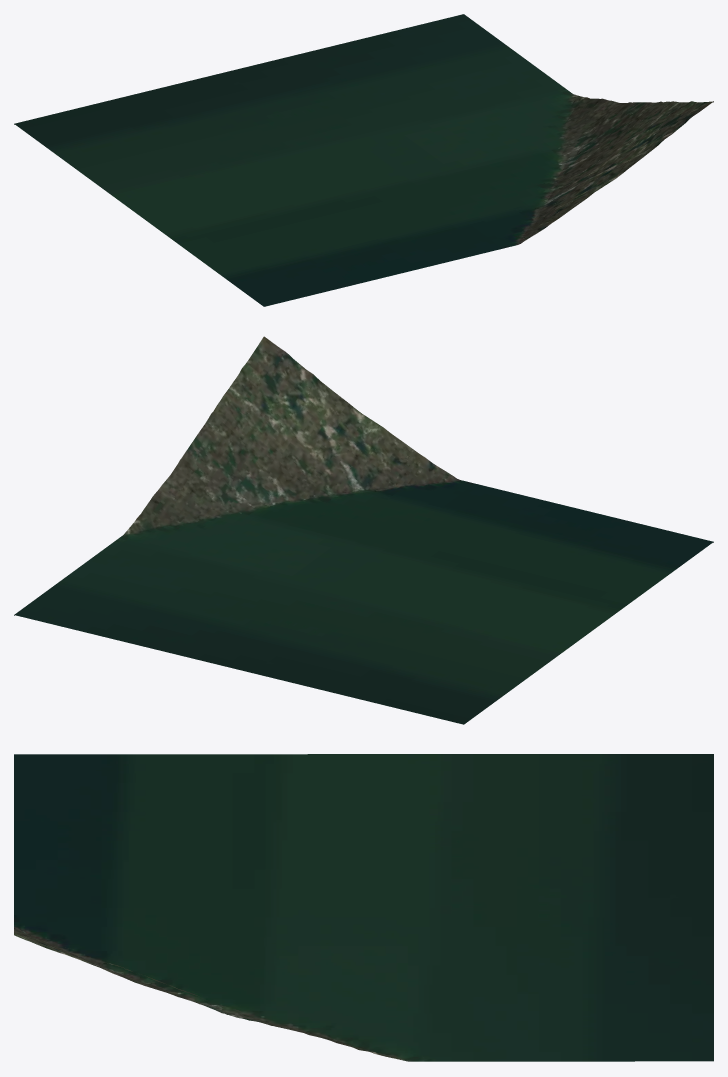
The picture shows the model from 3 angles, top to bottom: view 1: azimuth 30°, elevation 25°; view 2: azimuth 150°, elevation 25°; view 3: azimuth 270°, elevation 25°; orthographic projection. The views are drawn at different scales.
Size of the model in its own units: 500 by 103 by 481.
Materials: 1 (1 with a texture image).
